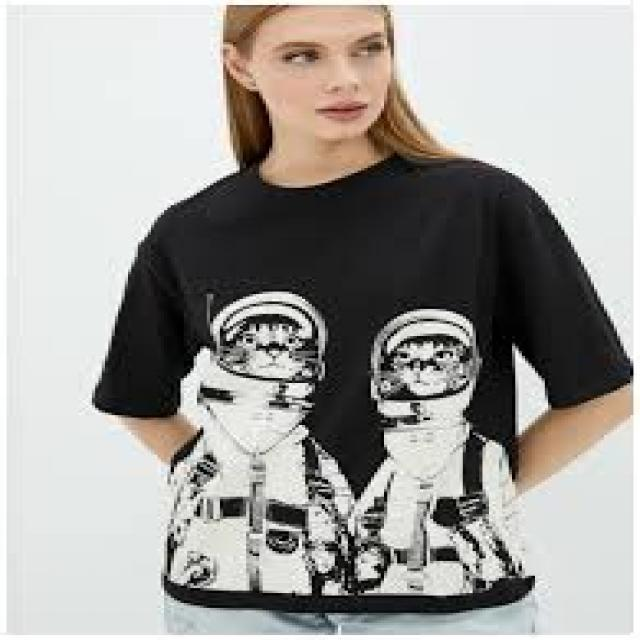Shirt: (52, 147, 628, 618)
